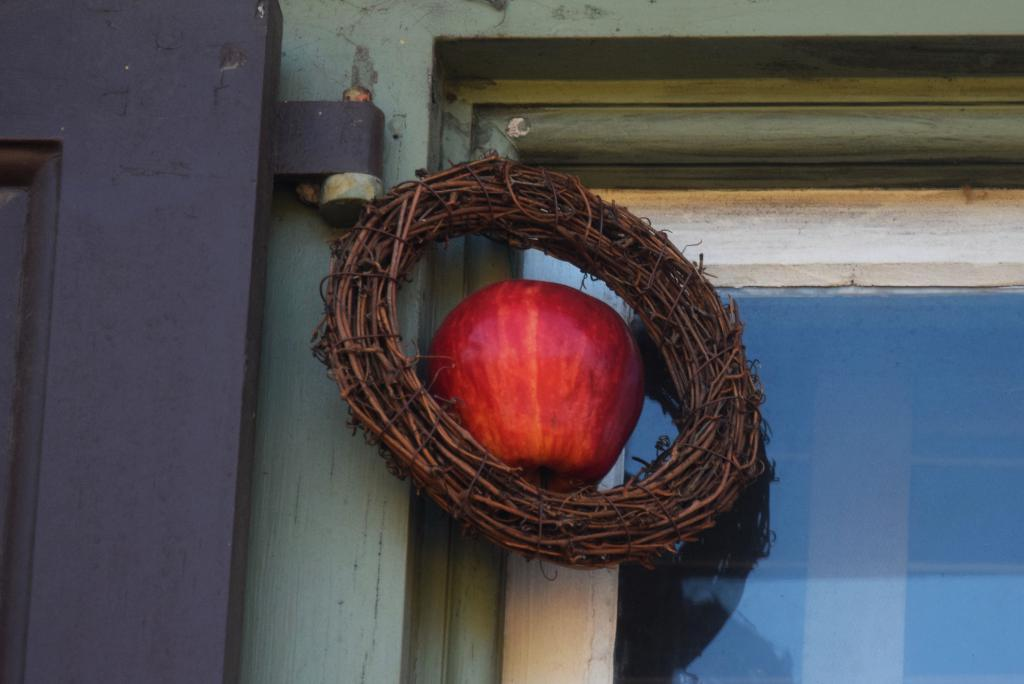Apple: (433, 272, 648, 479)
